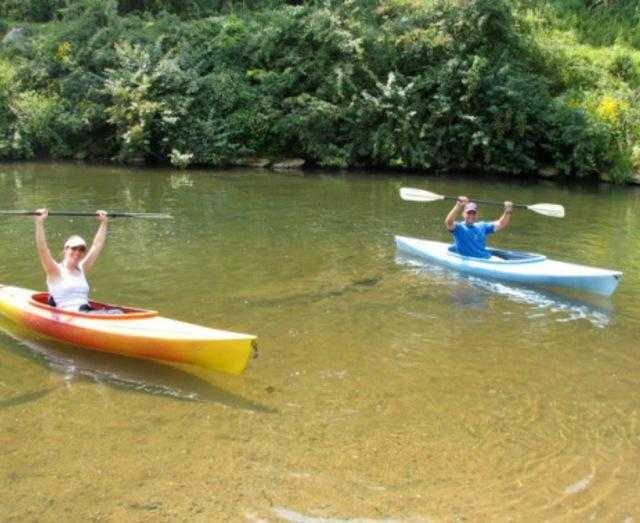kayak: (1, 284, 258, 375), (395, 233, 624, 297)
